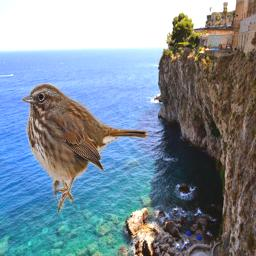Sparrow: (21, 83, 148, 213)
